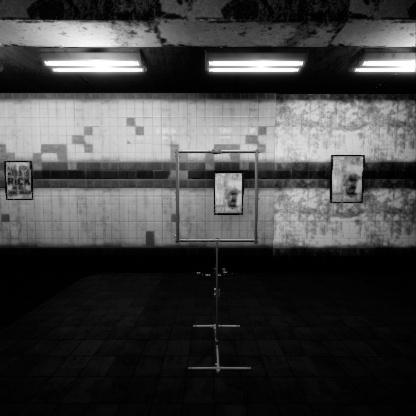gate: (176, 172, 267, 266)
